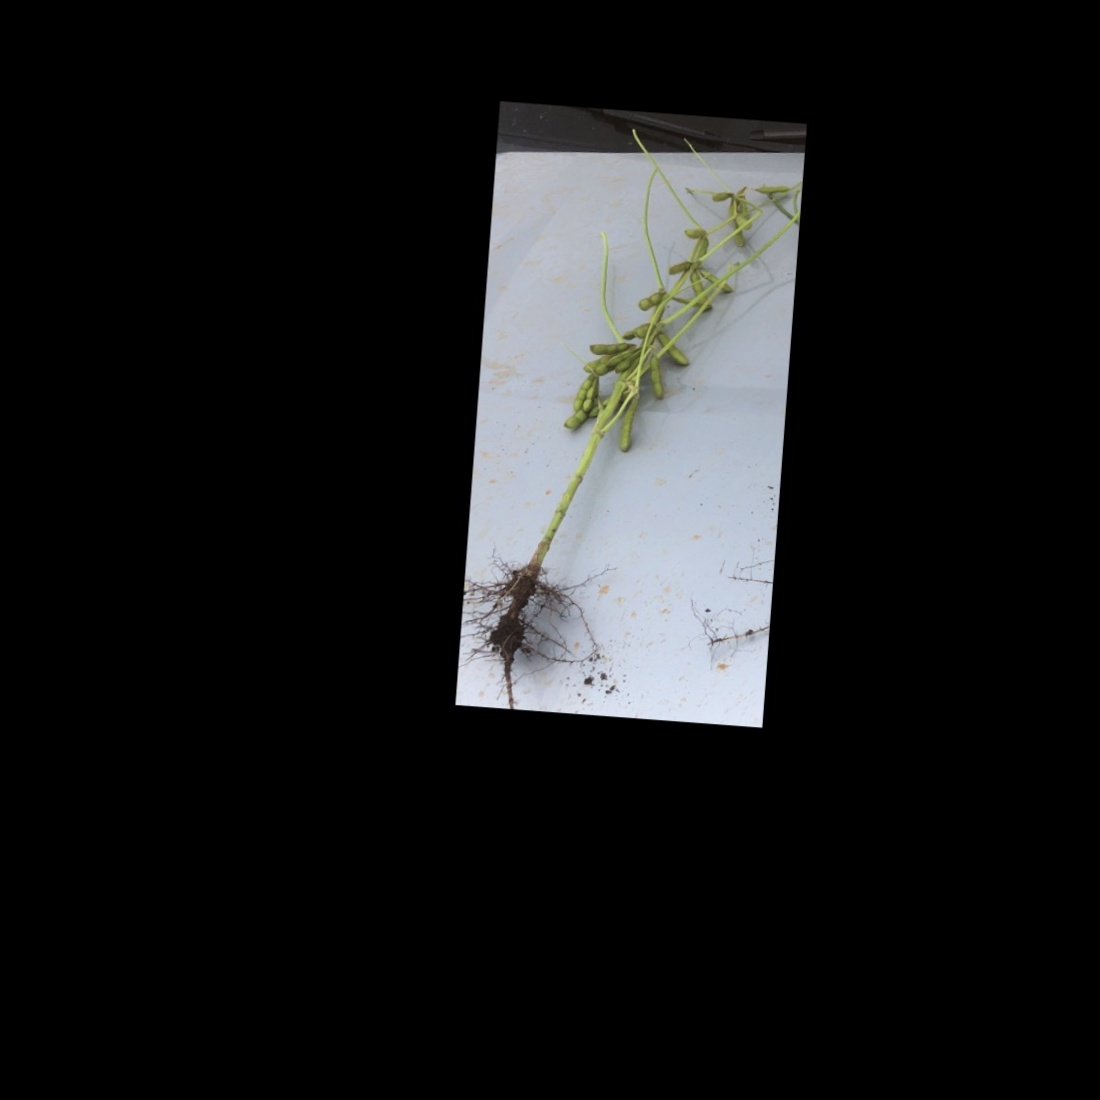pod: (653, 327, 696, 371), (640, 351, 669, 403), (618, 394, 642, 457), (695, 265, 737, 295), (587, 335, 637, 358), (631, 286, 666, 315), (750, 179, 796, 201), (665, 256, 697, 278), (679, 225, 708, 241)
soy: (471, 139, 798, 701)
